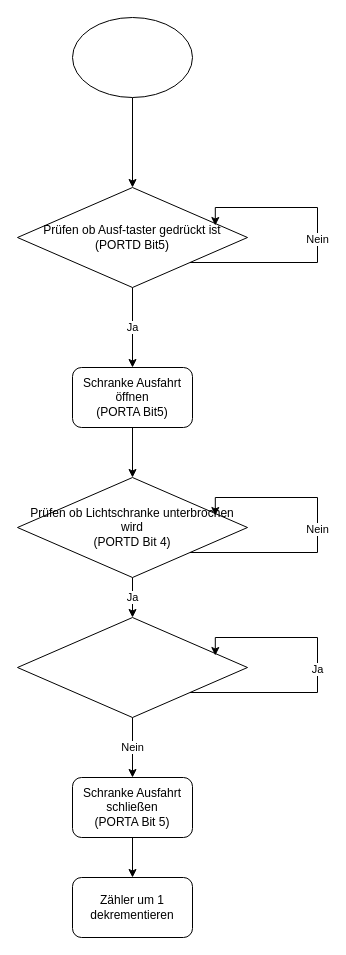
The diagram is 346 pixels wide and 955 high, and some of its shapes have lost their labels. Each missing label, with the box of its shape:
Prüfen ob Lichtschranke weiterhin unterbrochen wird (PORTD Bit 4): (16, 616, 248, 718)
Start: (72, 16, 192, 98)
